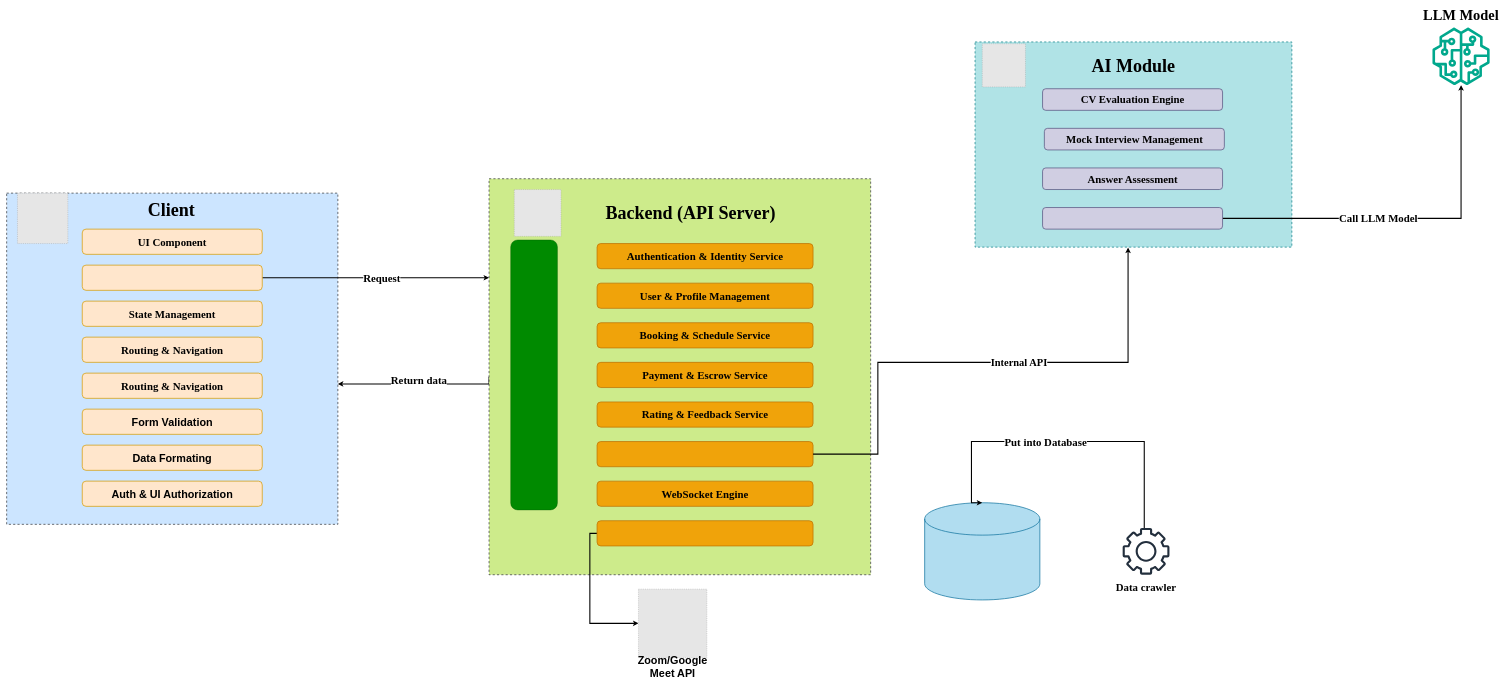
Some shapes in this 1510 by 685 pixel diagram are drawn without their labels. Grey dashed boxes stand in for pictures. Here are the shapes that lost their labels. From the top down, the box of each, then its label:
(1042, 207, 1223, 229): LLM Gateway & Prompt Manager
(82, 265, 262, 291): API Services
(510, 240, 557, 510): API Gateway
(597, 441, 813, 467): AI Integration Module
(597, 520, 813, 546): Meeting Integration Management
(924, 502, 1040, 600): Database(PostgreSQL)
